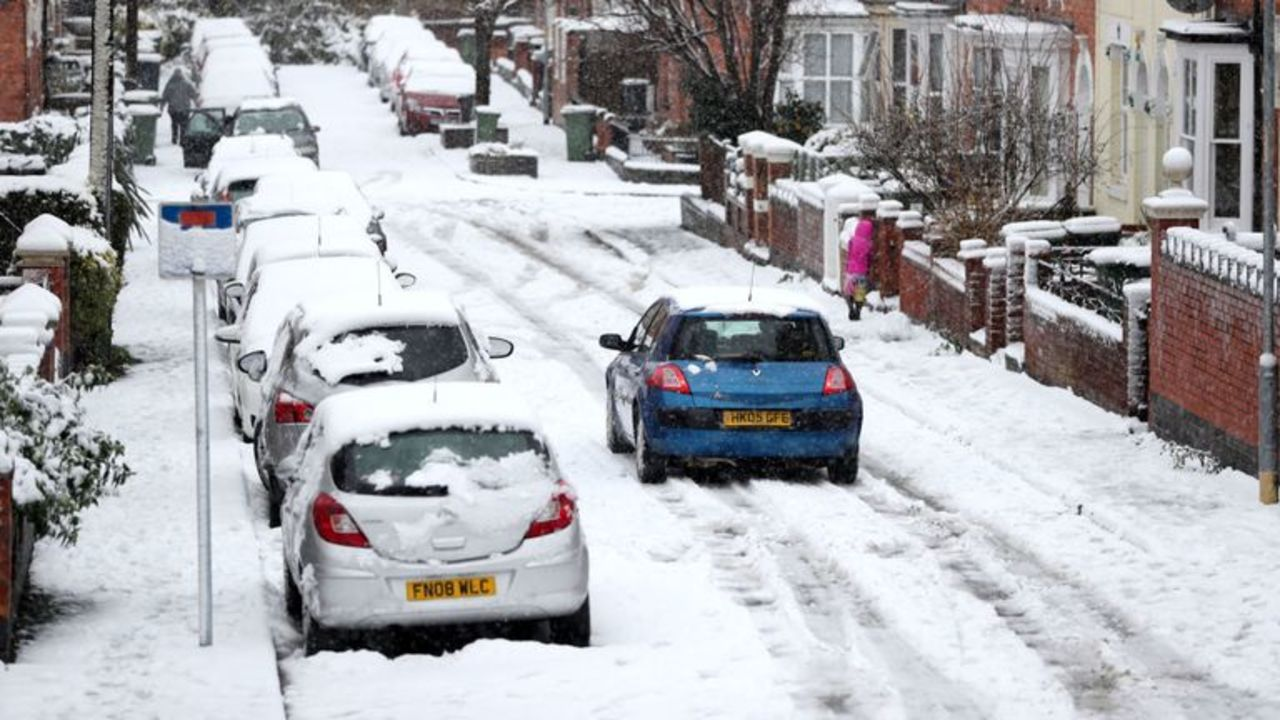car: (271, 387, 597, 655), (608, 292, 863, 485), (257, 308, 486, 499), (239, 271, 413, 426), (228, 231, 387, 354), (236, 166, 387, 254), (215, 97, 320, 170), (399, 65, 483, 135)
person: (845, 221, 875, 324), (162, 65, 196, 145)
